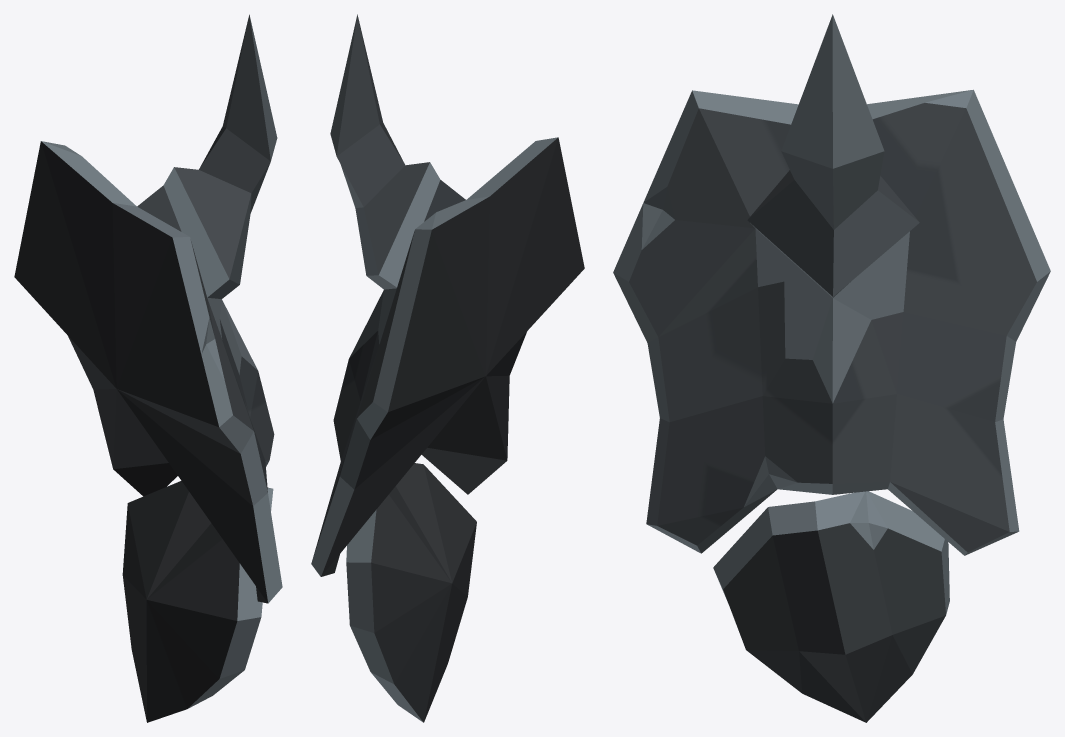
File: SM_Chr_Attach_Armour_Dark_Leg_RL_Medium_01.fbx
3 views of the same model, side by side, from view 1: azimuth 30°, elevation 25°; view 2: azimuth 150°, elevation 25°; view 3: azimuth 270°, elevation 25° (orthographic). The views are drawn at different scales.
Visible parts, largest first — view 1: SM_Chr_Attach_Armour_Dark_Leg_RL_Medium_01; view 2: SM_Chr_Attach_Armour_Dark_Leg_RL_Medium_01; view 3: SM_Chr_Attach_Armour_Dark_Leg_RL_Medium_01.
Boxes of the visible parts, x1=… form: SM_Chr_Attach_Armour_Dark_Leg_RL_Medium_01: x1=14, y1=14, x2=282, y2=722; SM_Chr_Attach_Armour_Dark_Leg_RL_Medium_01: x1=311, y1=14, x2=584, y2=722; SM_Chr_Attach_Armour_Dark_Leg_RL_Medium_01: x1=613, y1=14, x2=1050, y2=722.
Size of the model in its own units: 10.53 by 41.29 by 21.83.
